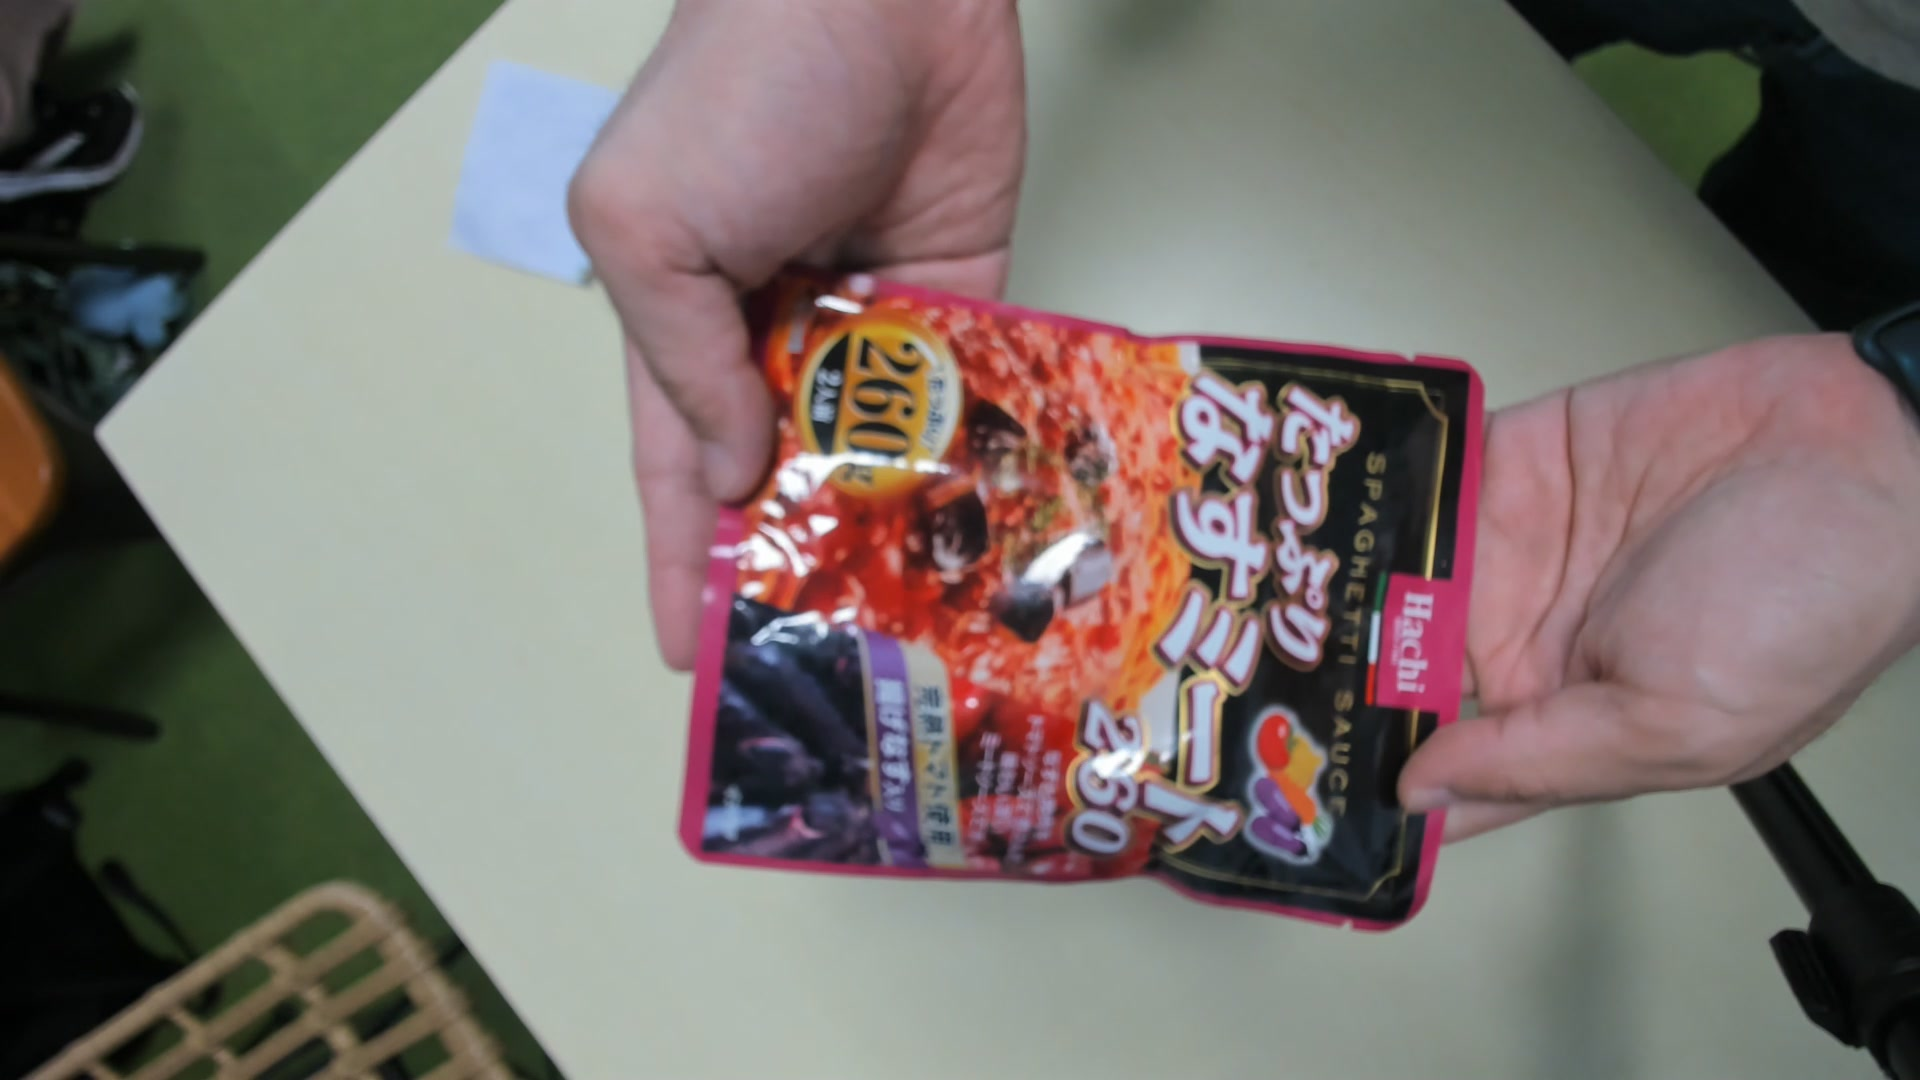PastaSauce_200-299g_NonHalal_NonHealthy: (678, 266, 1474, 940)
